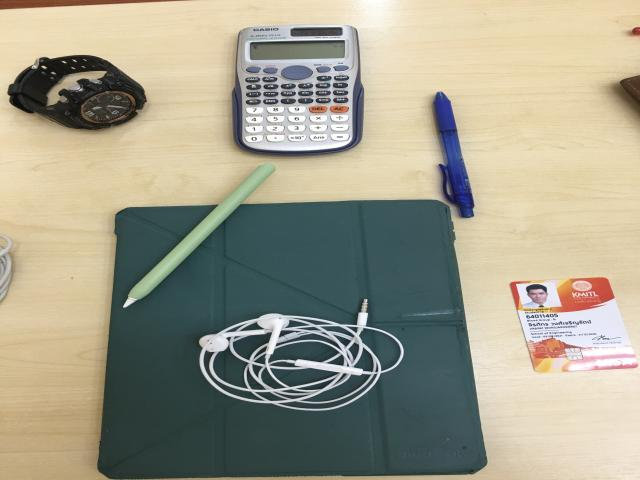Pen: (433, 93, 477, 220), (632, 25, 640, 37)
Wallet: (619, 74, 640, 129)
Watch: (8, 56, 149, 131)
wire: (196, 298, 407, 415), (0, 234, 16, 306)
